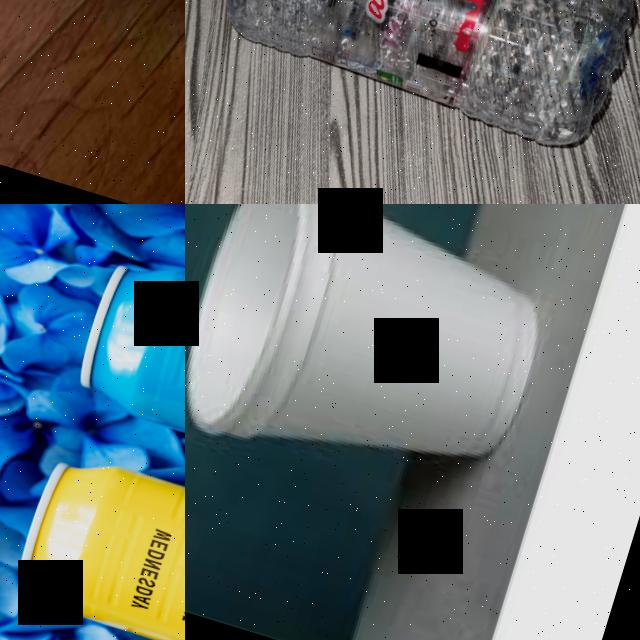bottle: (185, 0, 640, 153)
can: (6, 443, 185, 640), (67, 246, 185, 523), (0, 0, 185, 68)
cup: (185, 204, 566, 516)
